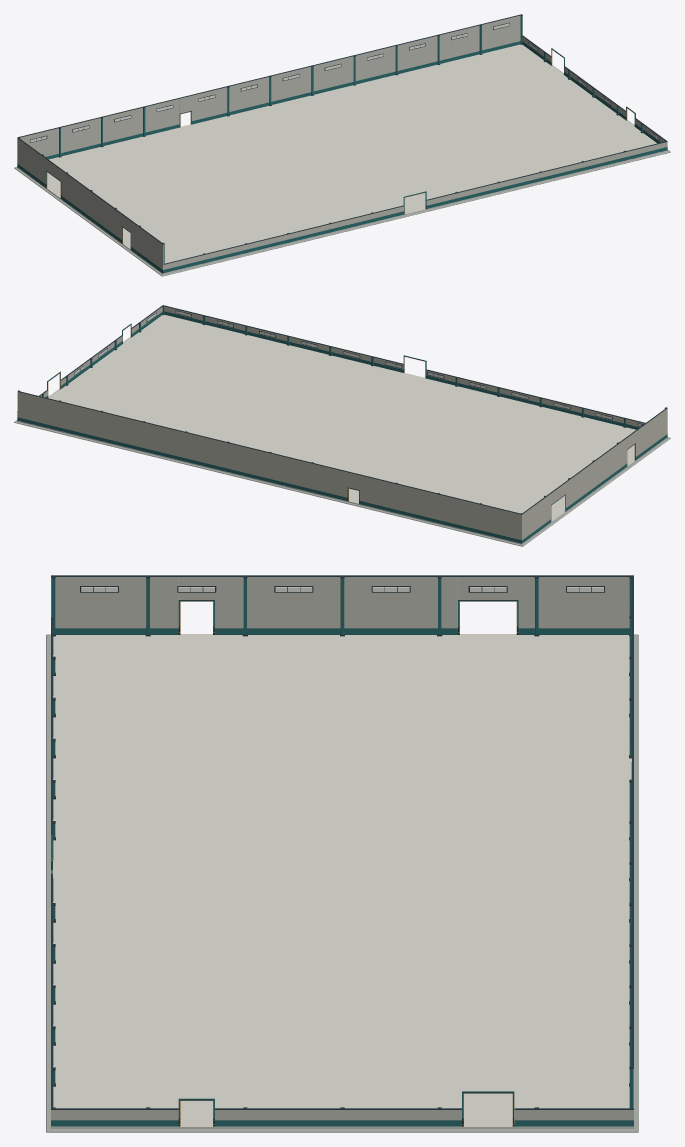
Rendered from environment-shell.glb.
3 views of the same model, one above another, from view 1: azimuth 30°, elevation 25°; view 2: azimuth 150°, elevation 25°; view 3: azimuth 270°, elevation 25° (orthographic). The views are drawn at different scales.
Parts seen in each view (by area): view 1: environment-shell__batch_06, environment-shell__batch_04, environment-shell__batch_05, environment-shell__batch_01, environment-shell__batch_03, environment-shell__batch_02; view 2: environment-shell__batch_06, environment-shell__batch_04, environment-shell__batch_05, environment-shell__batch_03, environment-shell__batch_02; view 3: environment-shell__batch_06, environment-shell__batch_04, environment-shell__batch_05, environment-shell__batch_01, environment-shell__batch_02, environment-shell__batch_03.
Boxes of the visible parts, <box> form: environment-shell__batch_06: <box>17,44,667,274</box>; environment-shell__batch_04: <box>17,14,667,273</box>; environment-shell__batch_05: <box>14,65,670,276</box>; environment-shell__batch_01: <box>59,16,642,263</box>; environment-shell__batch_03: <box>30,23,659,142</box>; environment-shell__batch_02: <box>30,22,659,142</box>; environment-shell__batch_06: <box>17,314,667,544</box>; environment-shell__batch_04: <box>17,305,667,543</box>; environment-shell__batch_05: <box>14,337,670,546</box>; environment-shell__batch_03: <box>74,311,641,426</box>; environment-shell__batch_02: <box>74,310,643,426</box>; environment-shell__batch_06: <box>51,634,633,1128</box>; environment-shell__batch_04: <box>51,575,633,1126</box>; environment-shell__batch_05: <box>46,634,638,1132</box>; environment-shell__batch_01: <box>51,578,633,1108</box>; environment-shell__batch_02: <box>53,586,631,1106</box>; environment-shell__batch_03: <box>81,587,603,591</box>.
Size of the model in its own units: 145 by 8.55 by 73.2.
